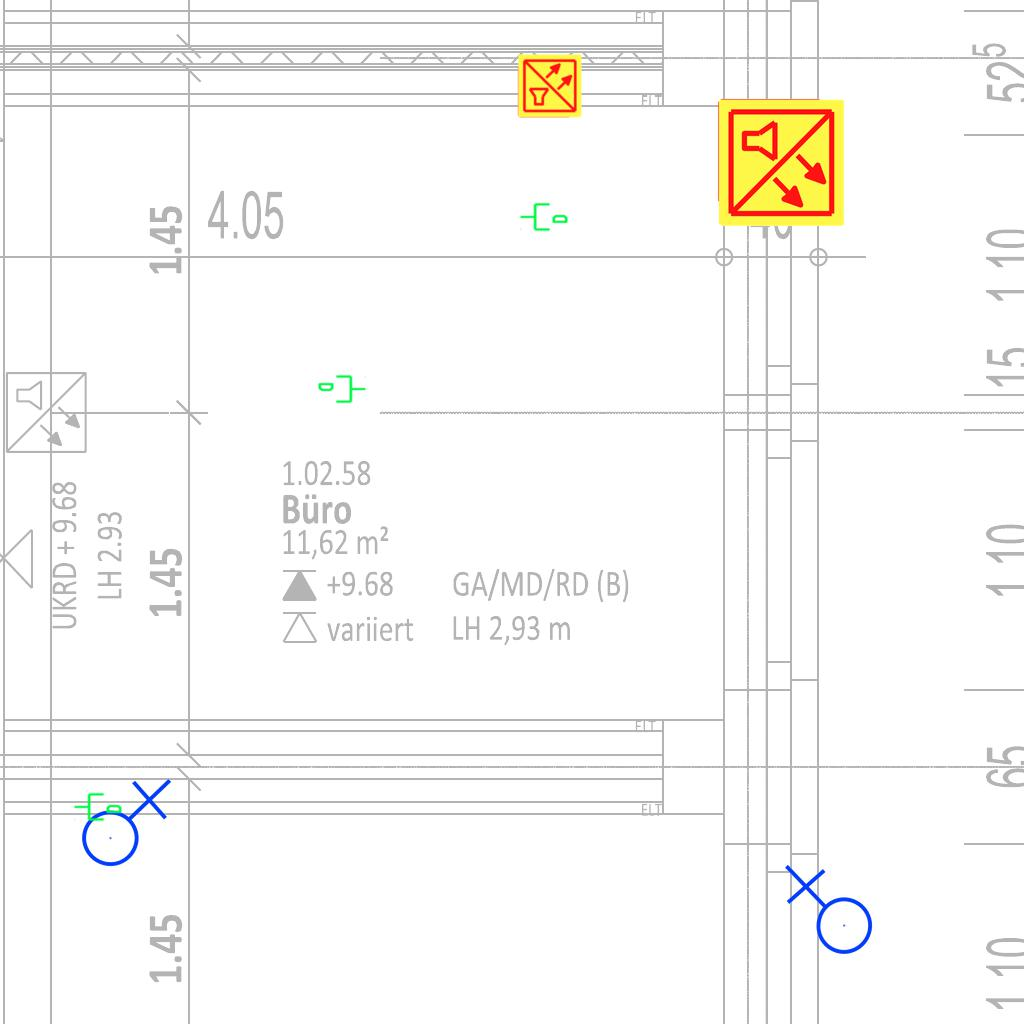Datenanschluss_einfach: (519, 199, 569, 233), (317, 373, 367, 407), (73, 789, 123, 823)
Elektroanschluss_allgemein_230V_Geraeteanschlussdose_230V: (73, 774, 172, 868), (780, 864, 874, 963)
OKW_Multisensormelder_(Kombination_optischer_Rauch-Kahlenmonoxid_Waerme-Melder): (715, 97, 847, 229), (517, 53, 583, 119)
